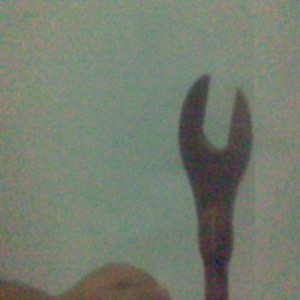spanner: (178, 74, 254, 300)
